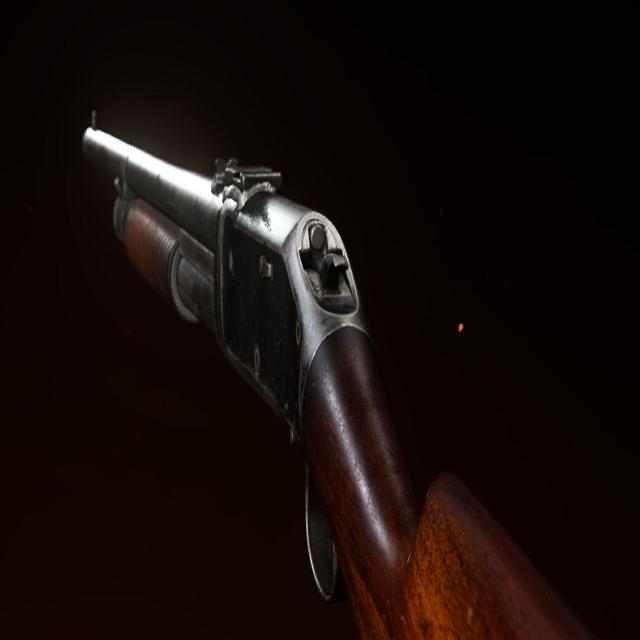weapon: (74, 100, 606, 640)
